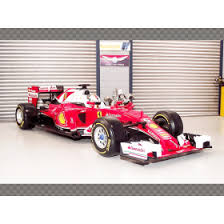FormulaOneCar: (13, 78, 216, 171)
